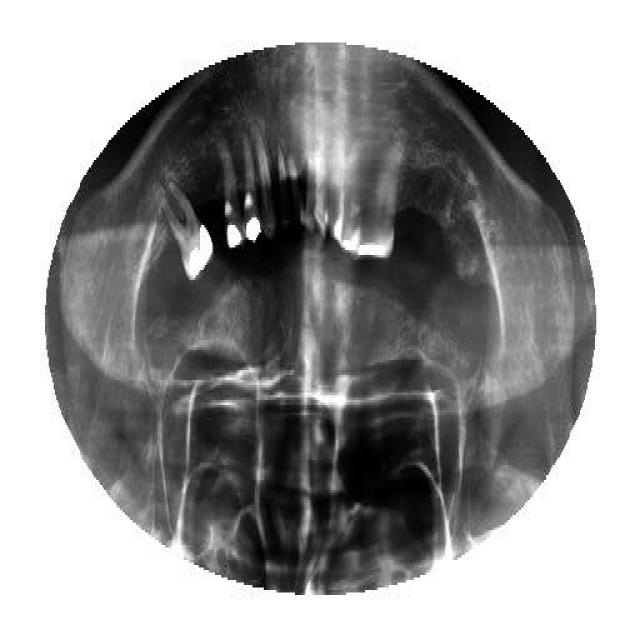Fillings: (162, 182, 214, 280), (223, 140, 245, 248), (242, 137, 264, 245)
